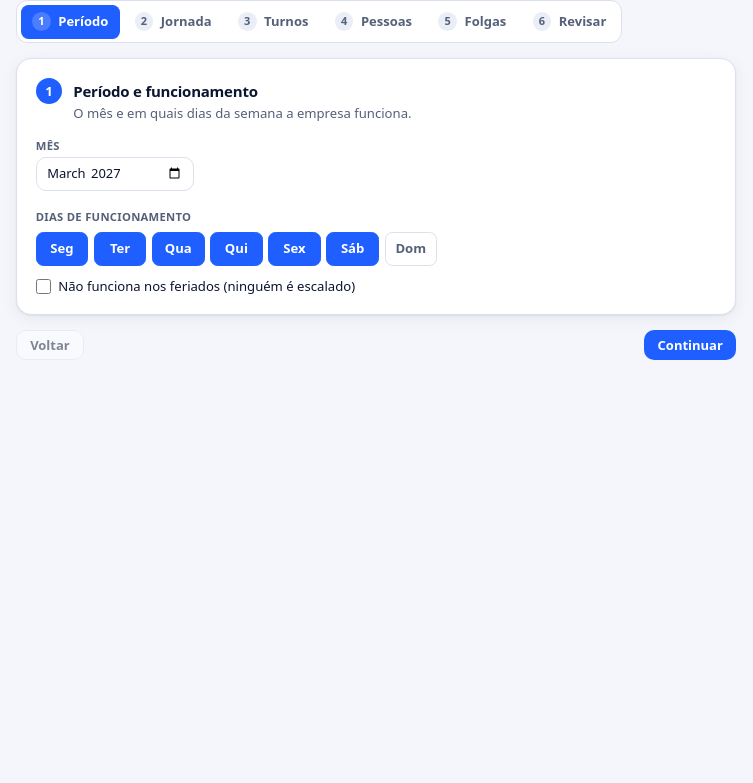
Test: Gerar escala (tela) › avisa quem está sem setor
Click the button "4 Pessoas": click(373, 22) [323,5,423,39]
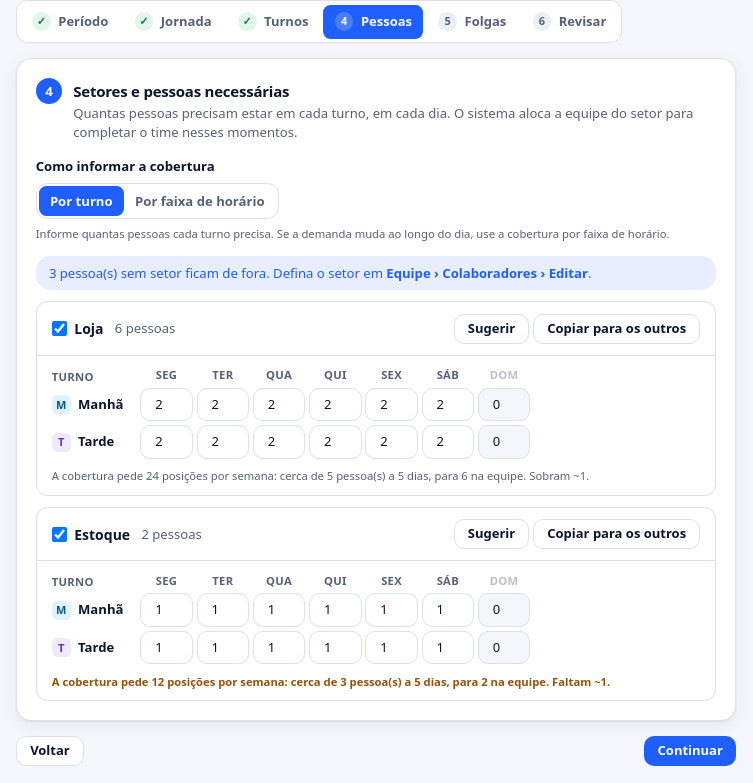
Now the text "3 pessoa(s) sem setor ficam de fora" is shown, box [36,256,716,290]
